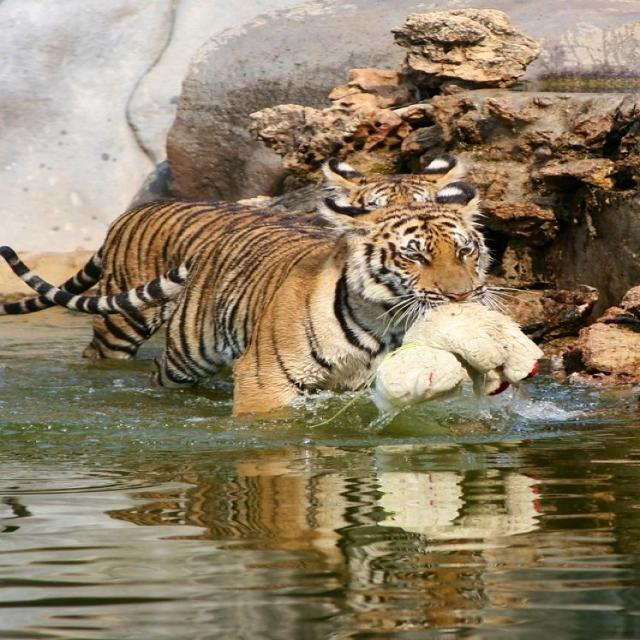Tiger: (0, 192, 496, 429), (0, 151, 474, 359)
